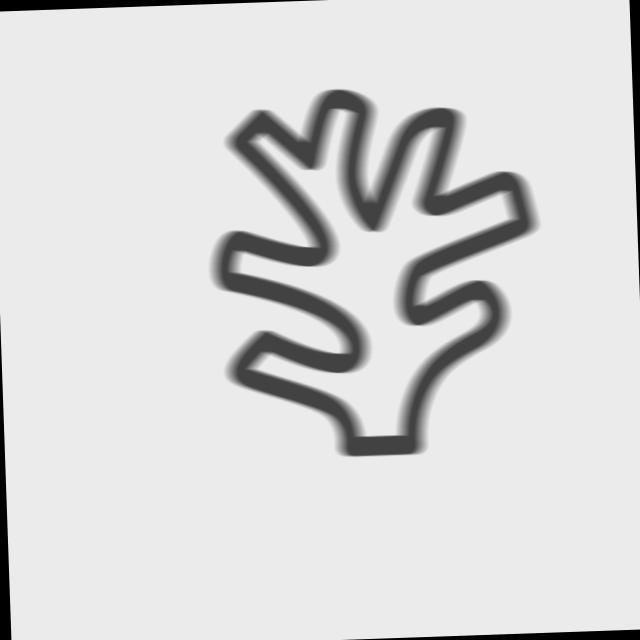coral: (197, 79, 556, 470)
